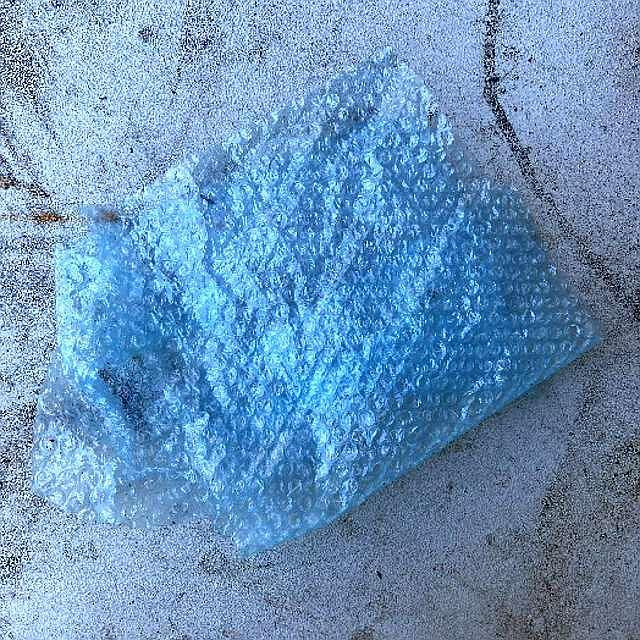Non-biodegradable: (29, 47, 604, 559)
